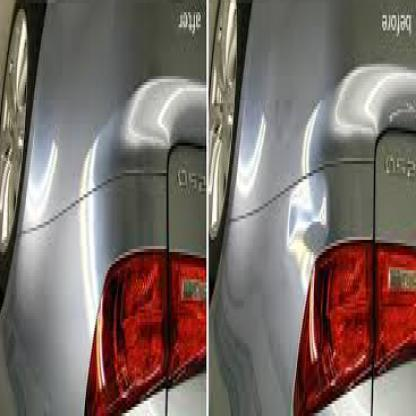dent: (284, 123, 332, 287)
